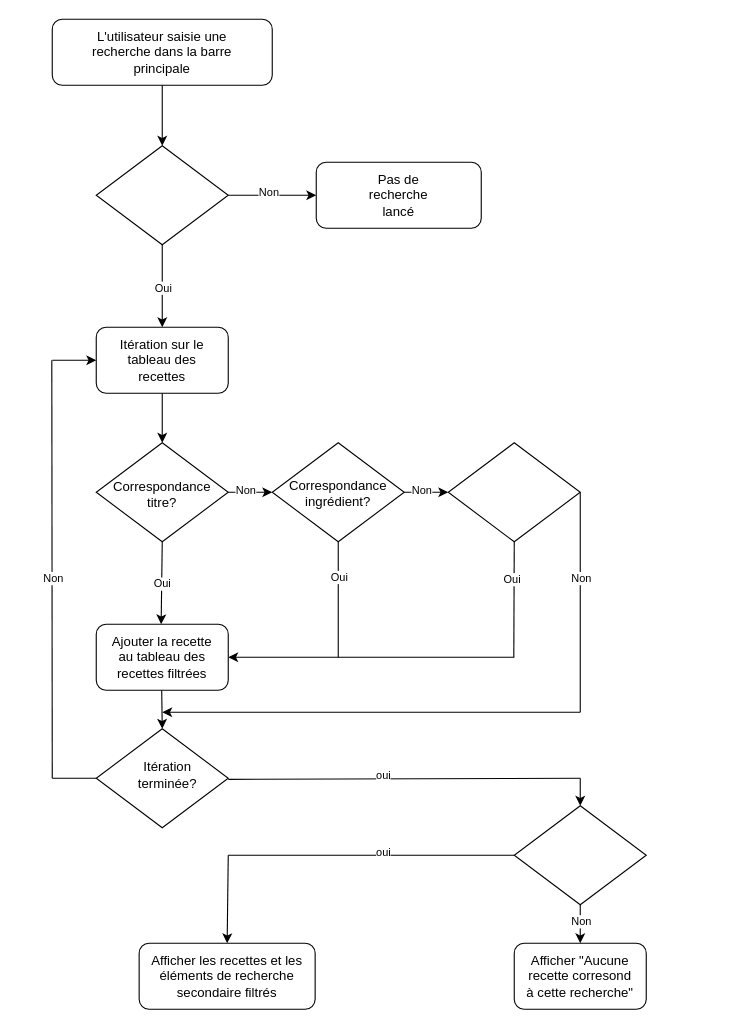
Image size: 729x1029. Some labels were removed from this diagram. Each missing label, with the centre of its shape:
Correspondance description?: point (513, 492)
Nombre de recettes filtrées > 0 ?: point (579, 855)
saisie >=3 caractères: point (161, 195)
